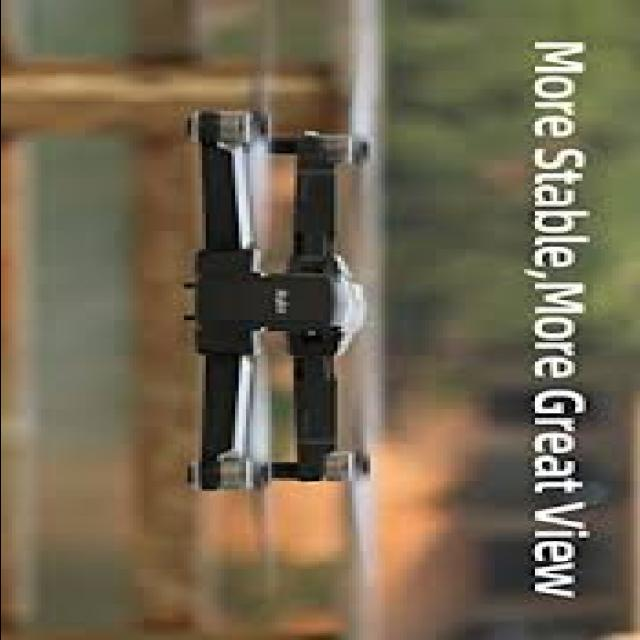drone: (151, 52, 396, 578)
